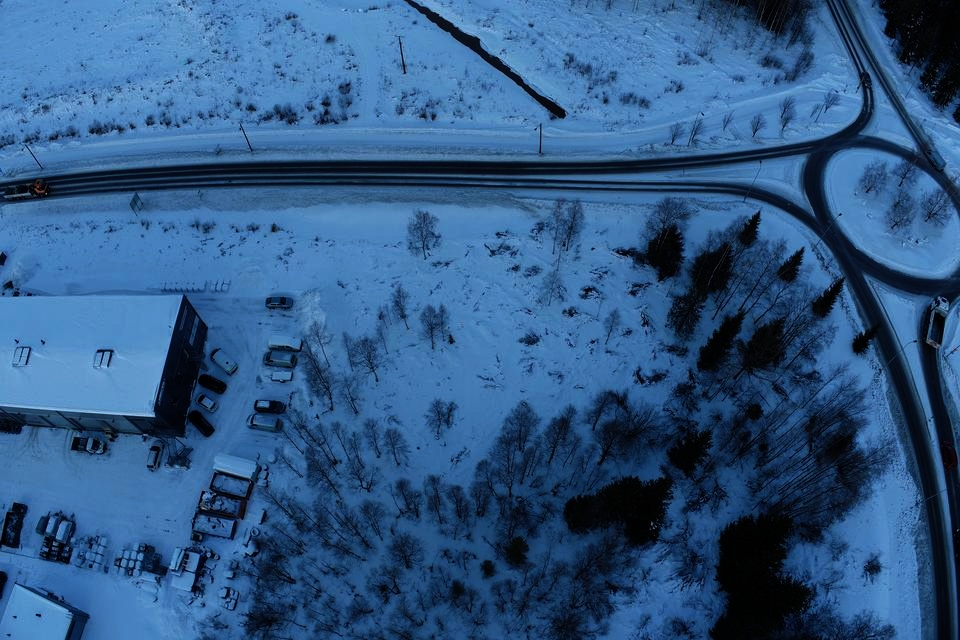roundabout: (787, 87, 960, 326)
